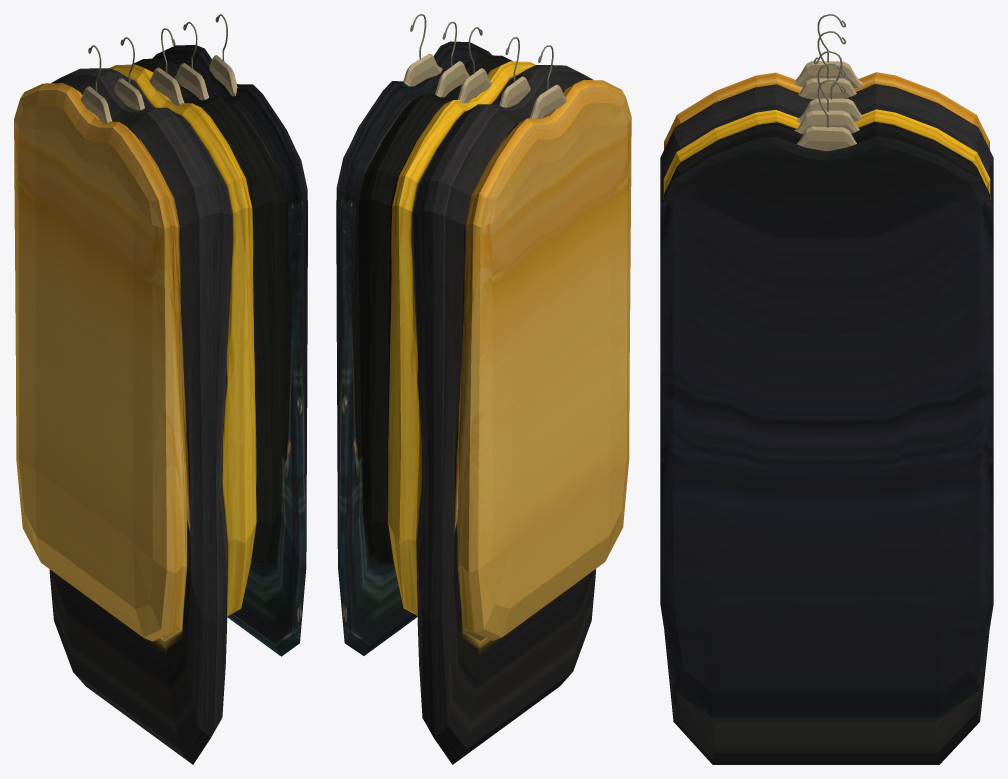
The model's file is hanging-clothes1.obj.
The picture shows the model from 3 angles, left to right: view 1: azimuth 30°, elevation 25°; view 2: azimuth 150°, elevation 25°; view 3: azimuth 270°, elevation 25°; orthographic projection. The views are drawn at different scales.
Parts seen in each view (by area): view 1: Jackets, Jacket_hangers; view 2: Jackets, Jacket_hangers; view 3: Jackets, Jacket_hangers.
Boxes of the visible parts, x1,y1,x2,y2 form: Jackets: (14, 45, 307, 764); Jacket_hangers: (80, 14, 237, 123); Jackets: (336, 41, 631, 764); Jacket_hangers: (403, 14, 566, 118); Jackets: (660, 72, 993, 764); Jacket_hangers: (794, 14, 862, 151).
Size of the model in its own units: 32.52 by 143 by 59.02.
3 materials, 1 textured.
